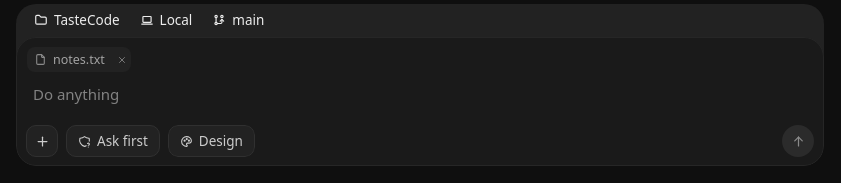
Test case: Composer media attachments › does not restore a removed pending paste when its save finishes
Click the button named "Remove notes.txt" at (119, 60), box [111,51,128,68]
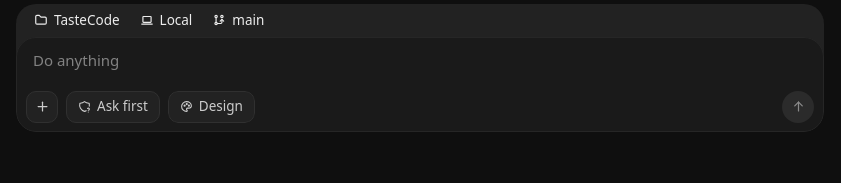
Now the text "notes.txt" is gone
